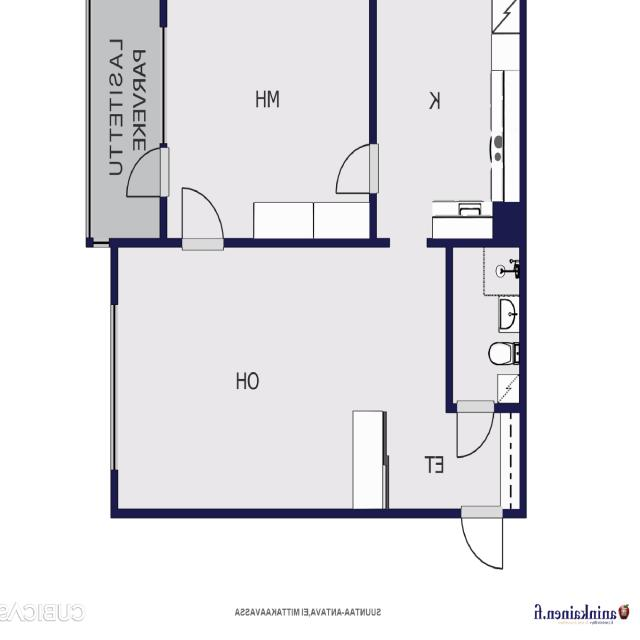door: (462, 508, 502, 572), (183, 183, 223, 247), (124, 148, 168, 196), (458, 403, 494, 460), (334, 145, 376, 193)
